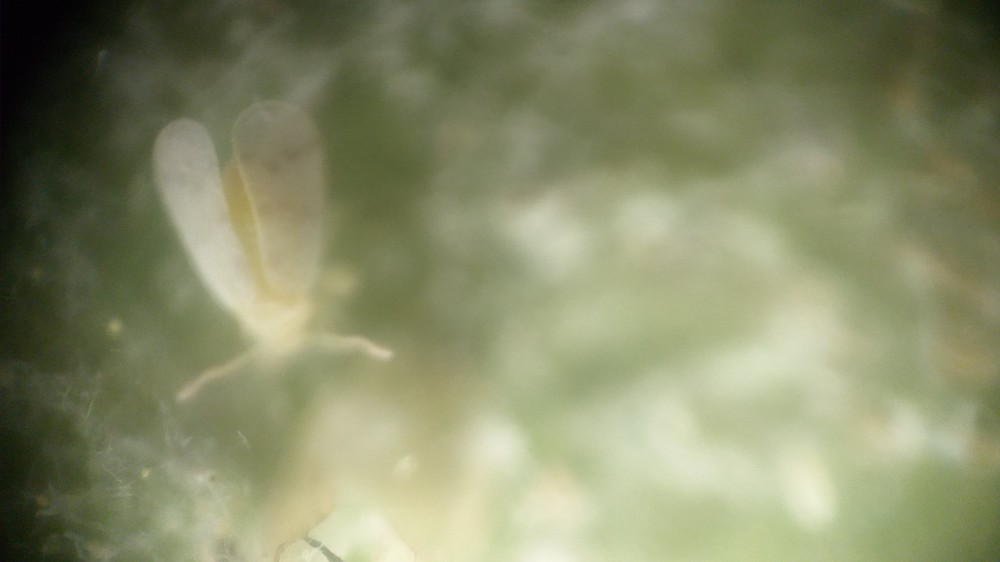Mosca Blanca: (131, 93, 459, 423)
